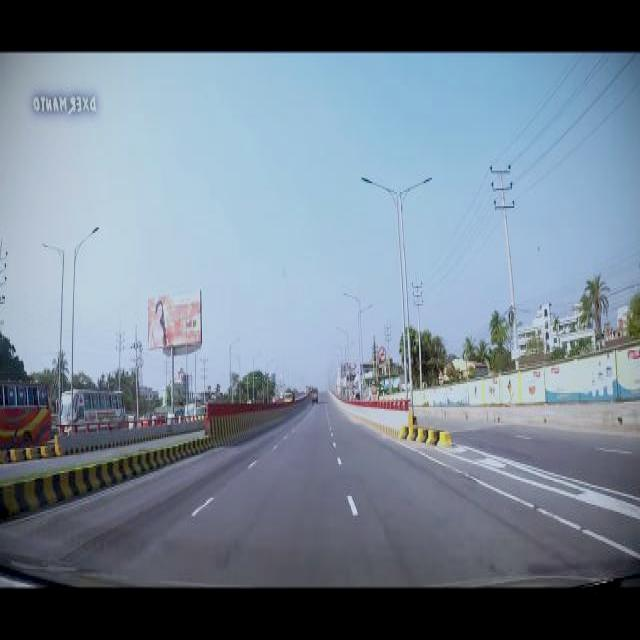bus: (1, 373, 53, 443), (59, 386, 128, 430), (185, 402, 195, 419)
truck: (312, 386, 320, 402)
